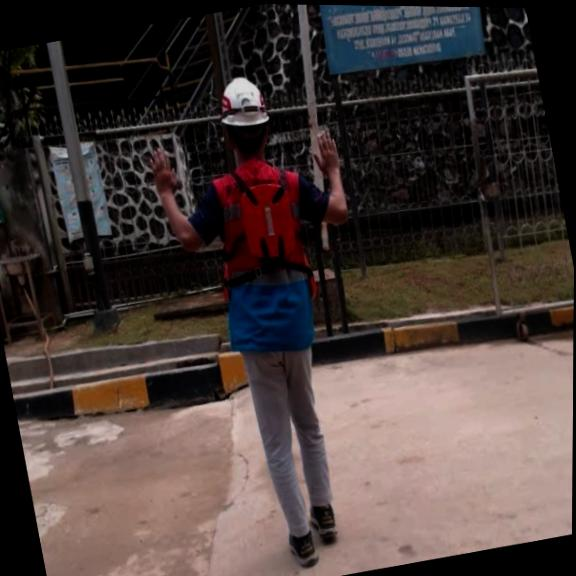safety_vest: (233, 173, 302, 266)
